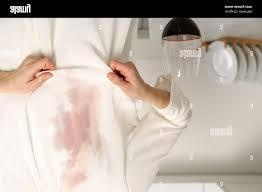wine: (54, 83, 103, 161), (59, 161, 88, 188)
